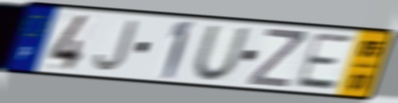1: (163, 19, 196, 81)
4: (45, 12, 88, 73)
E: (292, 31, 355, 92)
J: (93, 19, 141, 73)
U: (192, 24, 252, 83)
Z: (245, 26, 308, 90)
